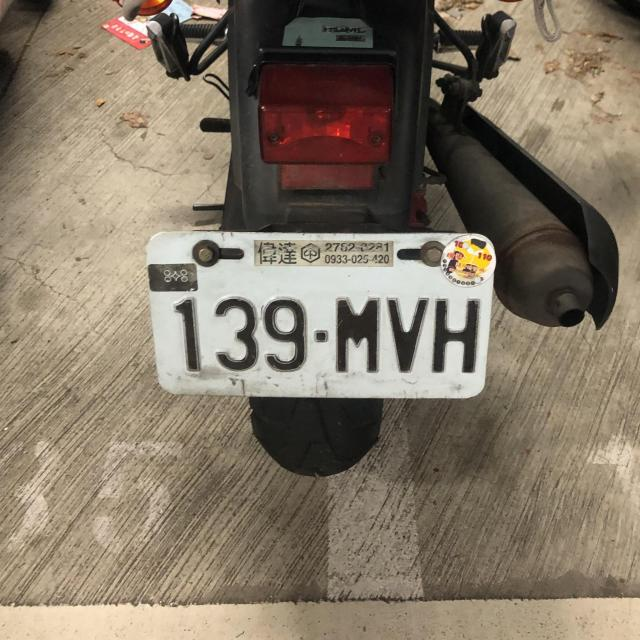W: (141, 218, 505, 406)
